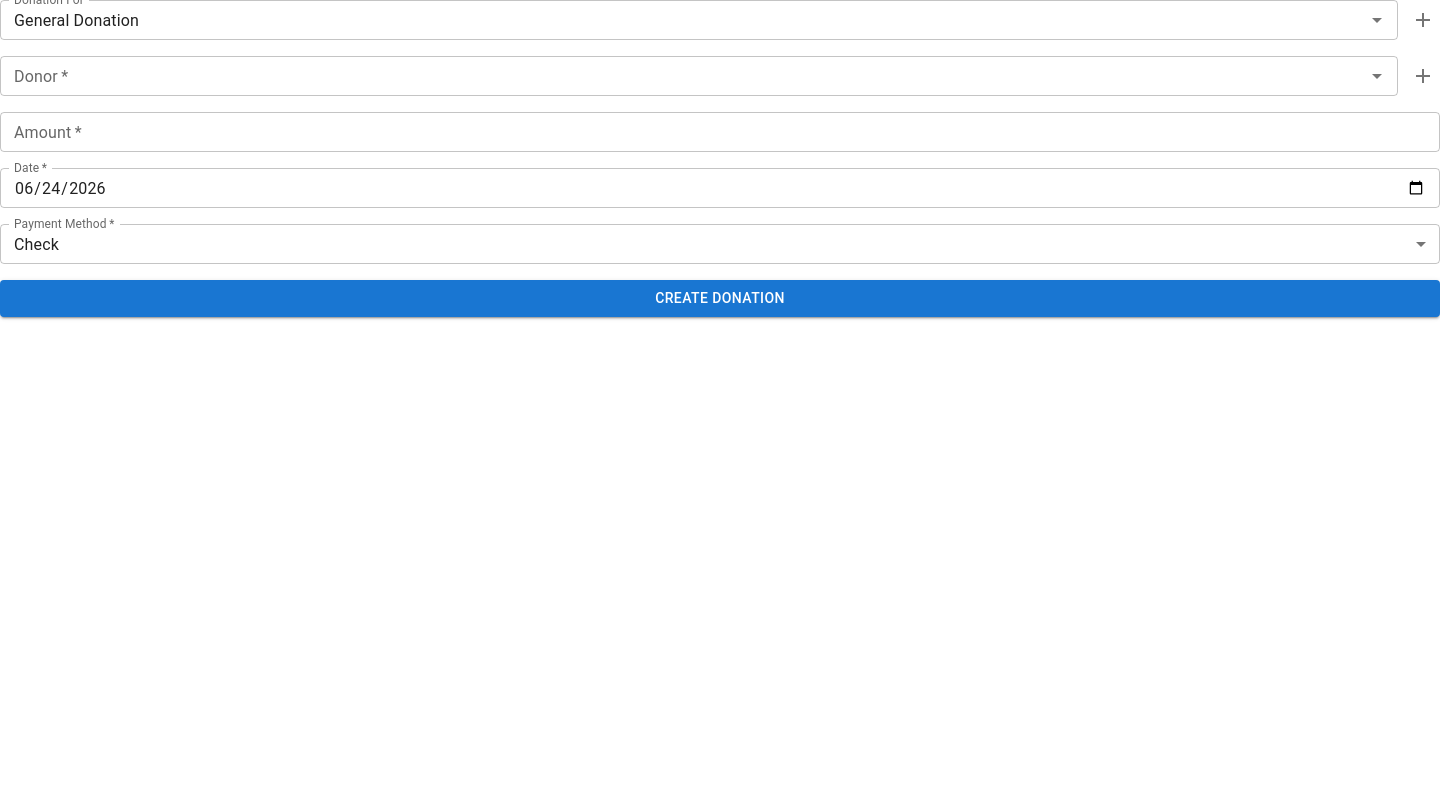
Test case: DonationForm › clicking create donor icon button opens QuickDonorCreateDialog
What coordinates should you click on to do the following:
click the button named "create donor"
I would click on:
 (1423, 76)
Its box is [1406, 59, 1439, 93].
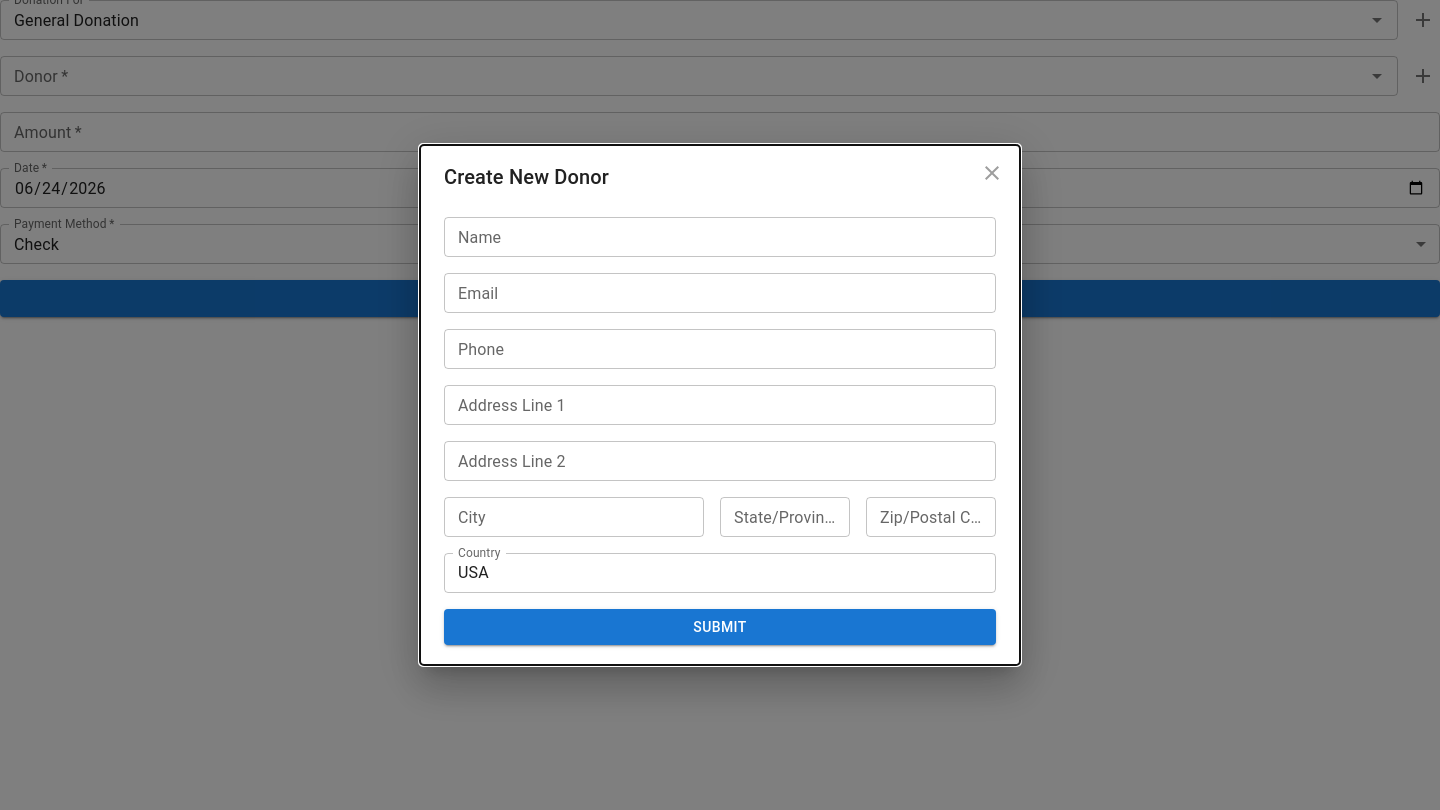
Check: the heading "Create New Donor" is shown, box [420, 145, 1020, 209]
